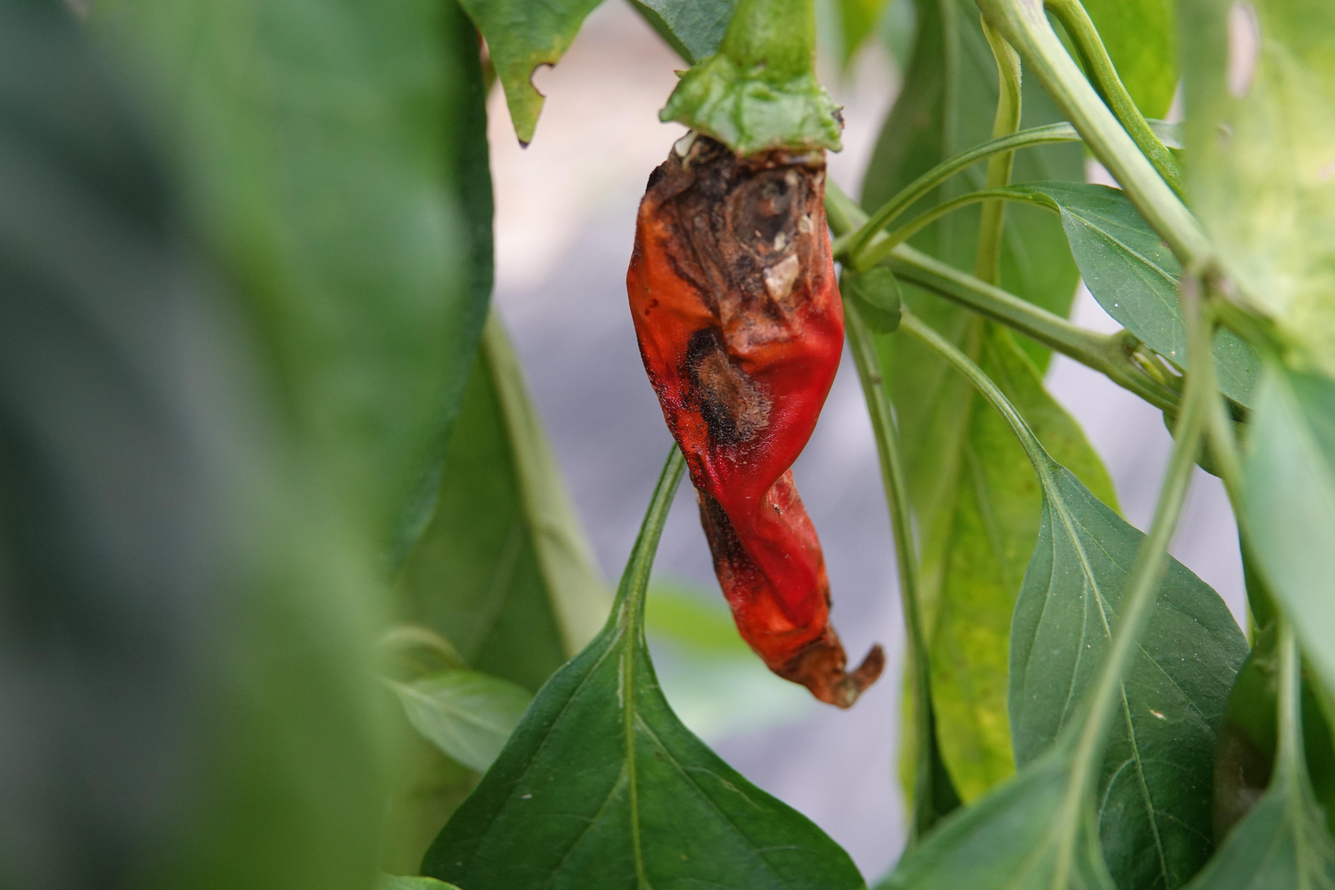Busuk Buah Antraknosa: (615, 50, 895, 721)
